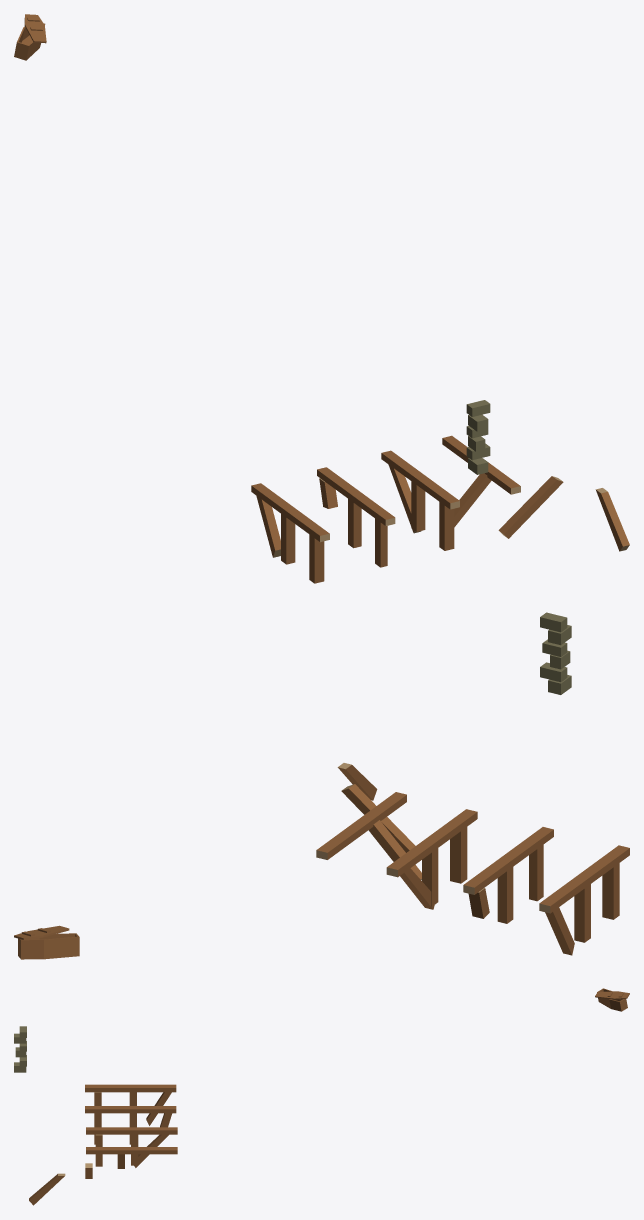
3 views of the same model, one above another, from view 1: azimuth 30°, elevation 25°; view 2: azimuth 150°, elevation 25°; view 3: azimuth 270°, elevation 25° (orthographic). The views are drawn at different scales.
Parts seen in each view (by area): view 1: Box15364_rock2_0, Box911_brown_0, Box935_brown_0, Box945_brown_0, Box15584_brown_0, Box921_brown_0; view 2: Box15364_rock2_0, Box911_brown_0, Box945_brown_0, Box935_brown_0, Box921_brown_0, Box811_brown_0, Box15584_brown_0, Box912_brown_0, Box936_brown_0, Box937_brown_0, Box940_brown_0, Box15582_brown_0 (+5 smaller); view 3: Box935_brown_0, Box911_brown_0, Box921_brown_0, Box945_brown_0, Box15364_rock2_0, Box811_brown_0, Box15583_brown_0.
Part boxes in pixels (left/top/right/bottom): Box15364_rock2_0: left=466, top=400, right=490, bottom=474; Box911_brown_0: left=381, top=450, right=459, bottom=509; Box935_brown_0: left=251, top=483, right=329, bottom=541; Box945_brown_0: left=317, top=467, right=394, bottom=525; Box15584_brown_0: left=498, top=476, right=563, bottom=538; Box921_brown_0: left=442, top=435, right=520, bottom=494; Box15364_rock2_0: left=540, top=612, right=571, bottom=694; Box911_brown_0: left=387, top=809, right=477, bottom=876; Box945_brown_0: left=464, top=827, right=553, bottom=894; Box935_brown_0: left=539, top=845, right=629, bottom=913; Box921_brown_0: left=316, top=792, right=406, bottom=859; Box811_brown_0: left=18, top=933, right=79, bottom=959; Box15584_brown_0: left=341, top=784, right=415, bottom=852; Box912_brown_0: left=450, top=827, right=467, bottom=883; Box936_brown_0: left=602, top=863, right=619, bottom=919; Box937_brown_0: left=574, top=884, right=590, bottom=942; Box940_brown_0: left=497, top=867, right=513, bottom=923; Box15582_brown_0: left=368, top=820, right=421, bottom=879; Box935_brown_0: left=85, top=1084, right=176, bottom=1092; Box911_brown_0: left=86, top=1127, right=177, bottom=1134; Box921_brown_0: left=86, top=1147, right=177, bottom=1154; Box945_brown_0: left=85, top=1106, right=176, bottom=1113; Box15364_rock2_0: left=14, top=1026, right=26, bottom=1072; Box811_brown_0: left=597, top=988, right=627, bottom=1011; Box15583_brown_0: left=29, top=1174, right=64, bottom=1205.
Size of the model in its own units: 1106 by 995 by 3314.
